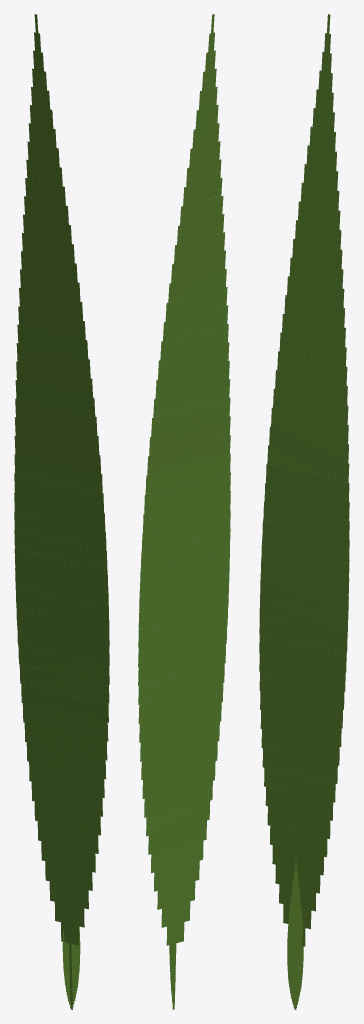
The model's file is maize_005_day_025.dae.
3 renders of one model, left to right at view 1: azimuth 90°, elevation 25°; view 2: azimuth 150°, elevation 25°; view 3: azimuth 270°, elevation 25°, orthographic. The views are drawn at different scales.
Visible parts, largest first — view 1: node; view 2: node; view 3: node.
Boxes of the visible parts, <box> form: node: <box>14,14,109,1009</box>; node: <box>138,14,230,1009</box>; node: <box>259,14,349,1009</box>.
Size of the model in its own units: 0.01 by 0.143 by 0.0121.
1 material, 1 textured.
